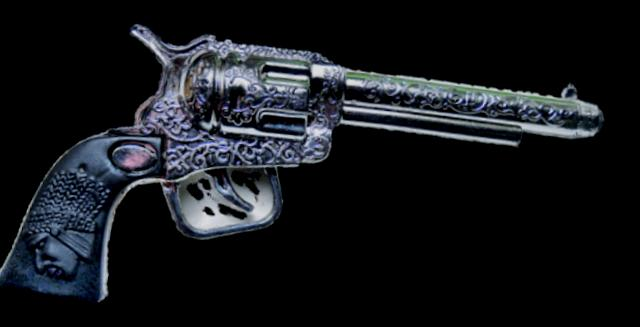pistol: (0, 0, 612, 327)
